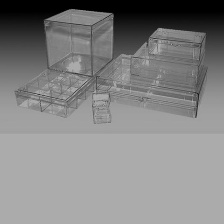plastic_box: (91, 50, 211, 121), (10, 49, 117, 121), (38, 3, 118, 79), (126, 38, 208, 90), (144, 23, 209, 63), (89, 89, 113, 114)
